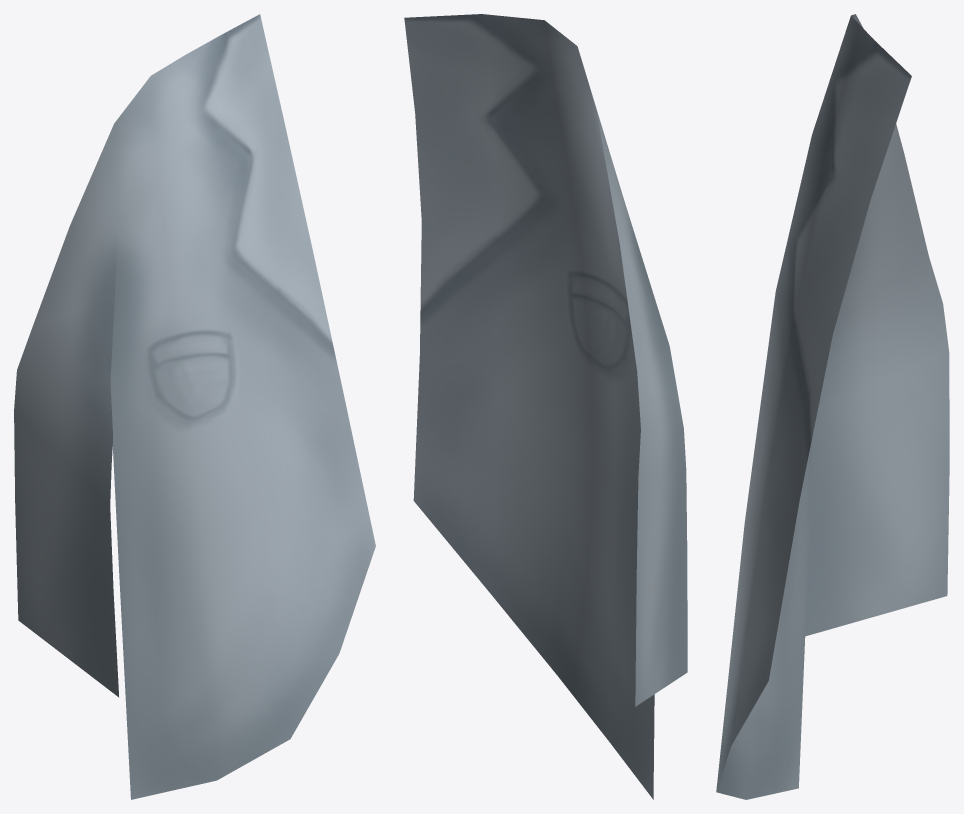
The model's file is SM_robe.FBX.
3 renders of one model, left to right at view 1: azimuth 30°, elevation 25°; view 2: azimuth 150°, elevation 25°; view 3: azimuth 270°, elevation 25°, orthographic. The views are drawn at different scales.
Parts seen in each view (by area): view 1: robe; view 2: robe; view 3: robe.
Boxes of the visible parts, x1,y1,x2,y2 form: robe: [14, 14, 375, 799]; robe: [404, 14, 687, 799]; robe: [716, 14, 949, 799].
Bounding box in the file's own units: 232 × 557 × 144.
1 material, 1 textured.
